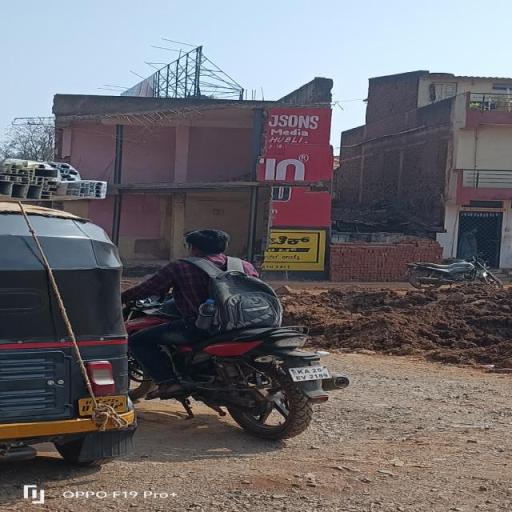bike: (118, 228, 356, 431)
numberplate: (288, 360, 333, 386)
withouthelmet: (187, 230, 228, 256)
